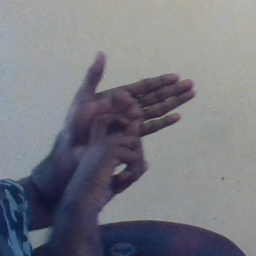R: (55, 51, 201, 187)
